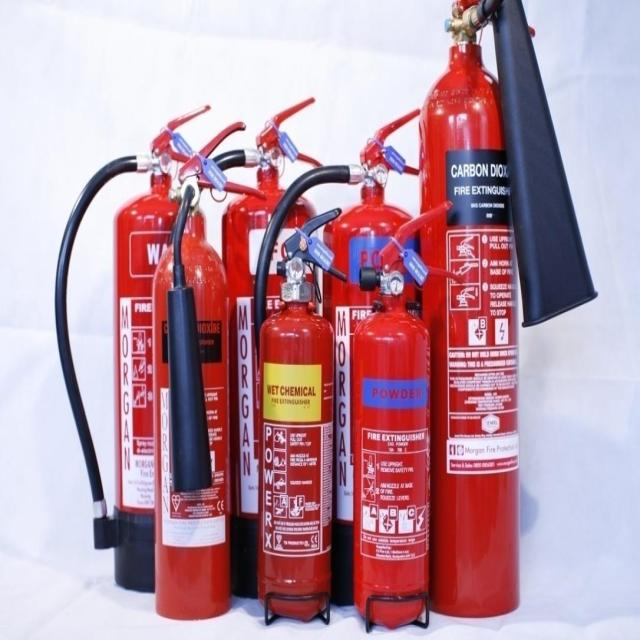fire_extinguisher: (415, 0, 602, 625), (246, 88, 432, 620), (49, 99, 222, 604), (213, 86, 334, 605), (147, 118, 269, 626), (349, 196, 465, 632), (253, 204, 349, 631)
